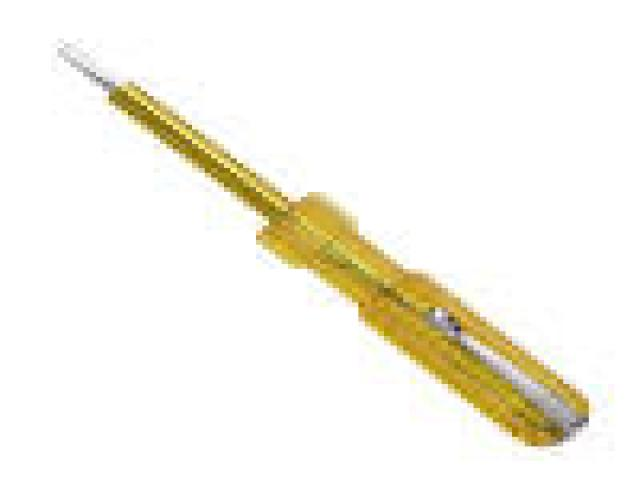Gas wrench: (59, 44, 588, 444)
